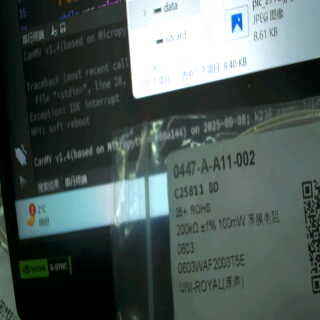200kR: (173, 218, 199, 240)
